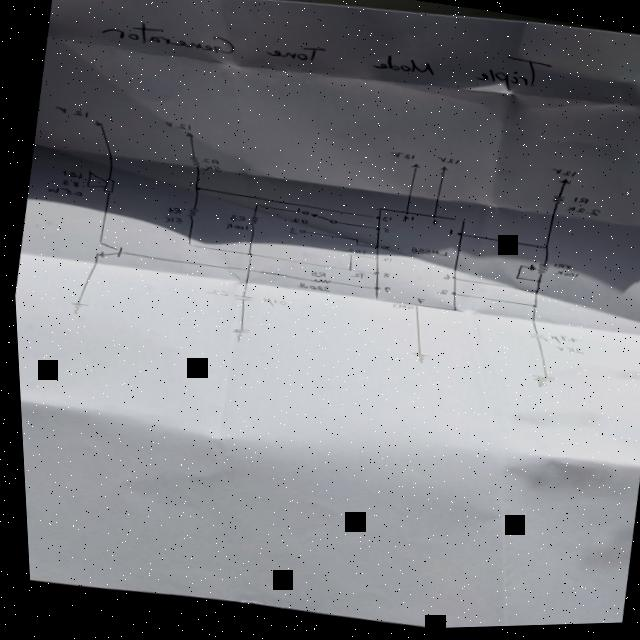capacitor: (524, 334, 546, 347), (229, 294, 253, 305)
crossover: (241, 268, 250, 274)
ground: (525, 375, 555, 394), (225, 327, 248, 346), (64, 300, 87, 317), (405, 353, 428, 368)
junction: (525, 305, 535, 313), (528, 281, 539, 287), (243, 252, 252, 259), (190, 186, 200, 192), (539, 248, 548, 253), (528, 292, 537, 297), (508, 278, 517, 283), (513, 266, 522, 271), (184, 243, 193, 248), (343, 269, 351, 274), (251, 204, 259, 208), (346, 255, 352, 259), (350, 239, 356, 243), (351, 244, 357, 248)
resistor: (523, 263, 548, 280), (306, 277, 330, 287), (548, 196, 566, 209), (185, 156, 201, 170), (184, 207, 199, 219), (246, 216, 259, 228)
source: (554, 179, 571, 189), (91, 119, 104, 129), (406, 164, 420, 172), (437, 166, 448, 175), (184, 132, 195, 139)
switch: (297, 210, 338, 231)
terminal: (295, 230, 305, 236)
text: (96, 0, 556, 118), (406, 246, 446, 261), (562, 207, 600, 222), (44, 184, 82, 199), (52, 105, 89, 120), (545, 335, 575, 351), (293, 282, 329, 294), (161, 119, 192, 132), (550, 347, 583, 359), (257, 297, 284, 311), (221, 221, 248, 234), (388, 151, 416, 163), (550, 271, 578, 283), (548, 170, 577, 181), (199, 163, 223, 176), (337, 248, 367, 258), (159, 214, 182, 227), (434, 157, 460, 168), (58, 169, 83, 180), (388, 303, 412, 314), (201, 288, 227, 298), (57, 178, 80, 188), (199, 157, 220, 167), (164, 205, 181, 217), (225, 214, 245, 224), (345, 272, 364, 282), (549, 264, 570, 273), (569, 199, 589, 208), (306, 271, 324, 280), (399, 216, 414, 226), (432, 290, 447, 298), (411, 299, 424, 307), (286, 217, 299, 225), (285, 229, 298, 237), (377, 258, 391, 265), (379, 217, 391, 225), (376, 245, 389, 252), (438, 275, 449, 283), (378, 228, 389, 236), (428, 220, 438, 228), (378, 273, 389, 280), (380, 288, 389, 296), (444, 230, 453, 238), (293, 208, 300, 215)
transistor: (87, 238, 125, 263)
